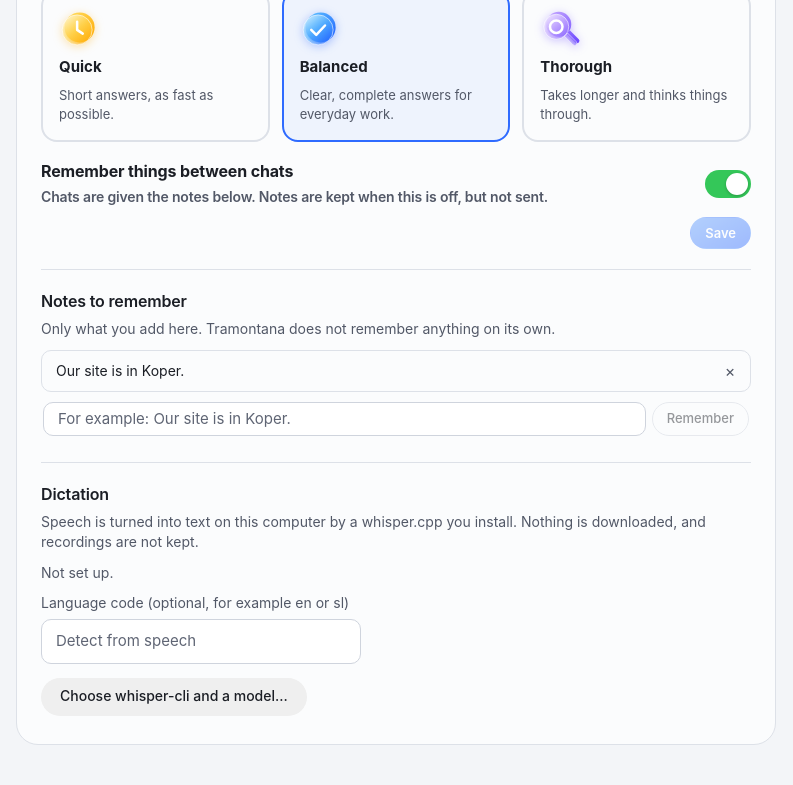
it: SettingsView › adds and forgets notes, and says nothing is remembered on its own
(page scrolled)
Expected: the text "Our site is in Koper." is shown, [56,361,184,381]
Expected: the text "does not remember anything on its own" is shown, [41,320,555,338]
Type "Prefers metric." into the field named "New note" at (344, 419), box [43,402,646,436]
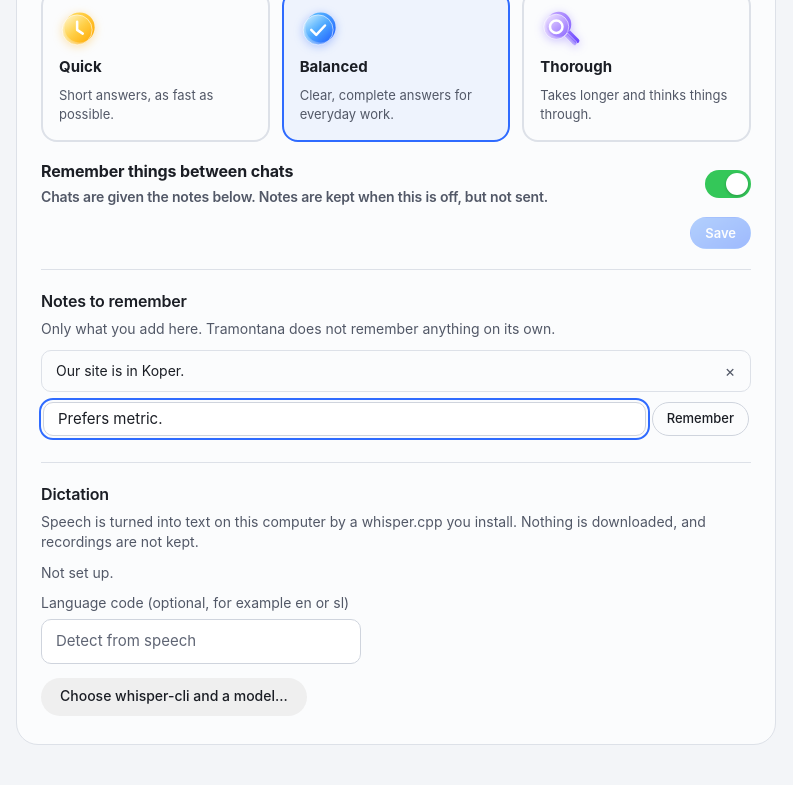
Click the button "Remember" at (700, 419), box [652,402,749,436]
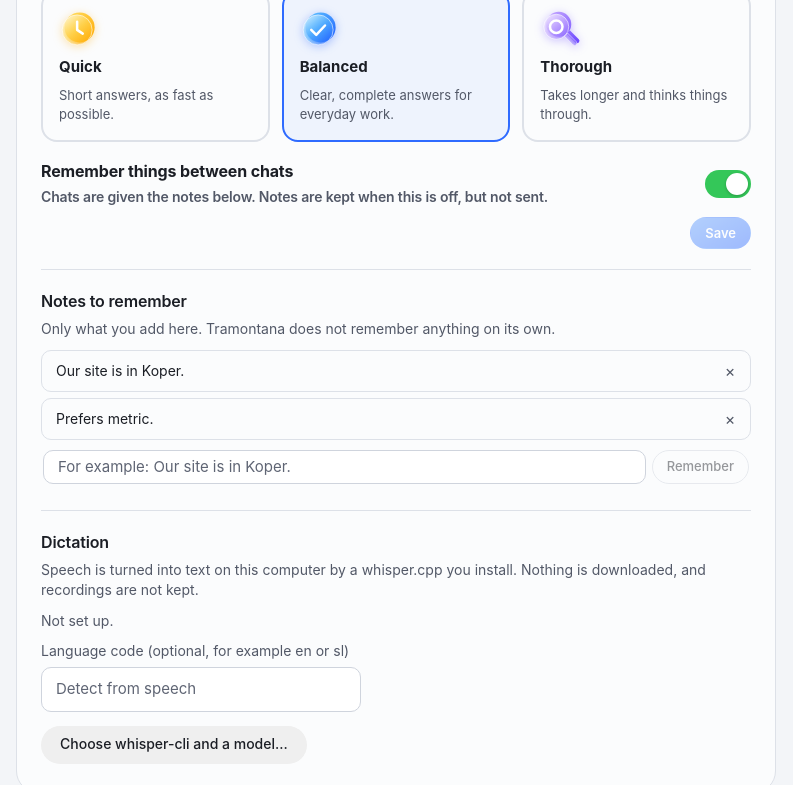
Result: the text "Prefers metric." is shown at [56,409,154,429]
Result: the field named "New note" is empty at [43,450,646,484]
Click the button named "Forget “Our site is in Koper.”" at (730, 371), box [718,359,742,383]
(page scrolled)
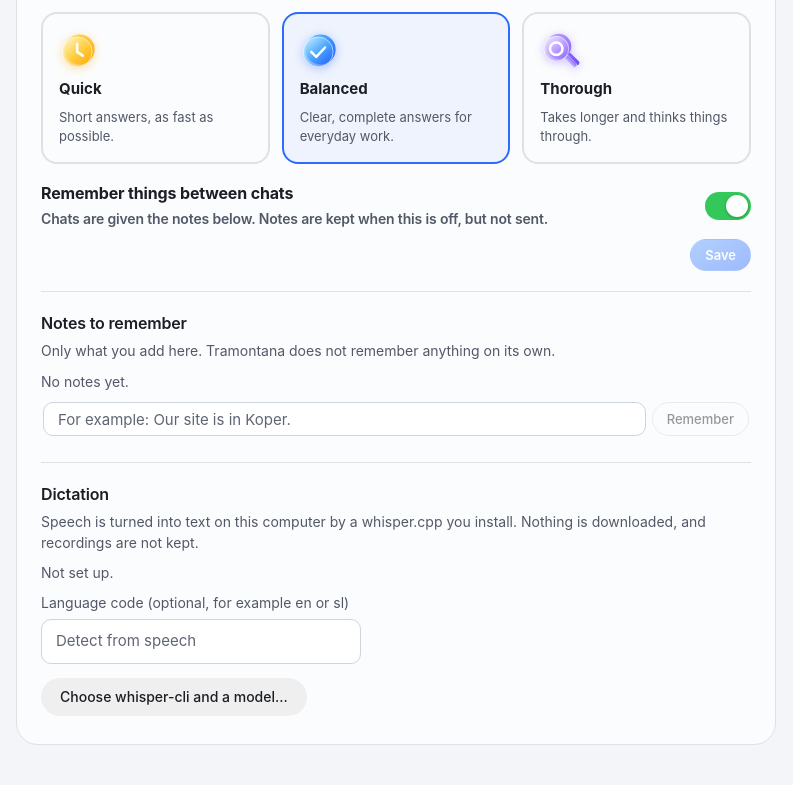
Result: the text "No notes yet." is shown at [41,373,129,390]
